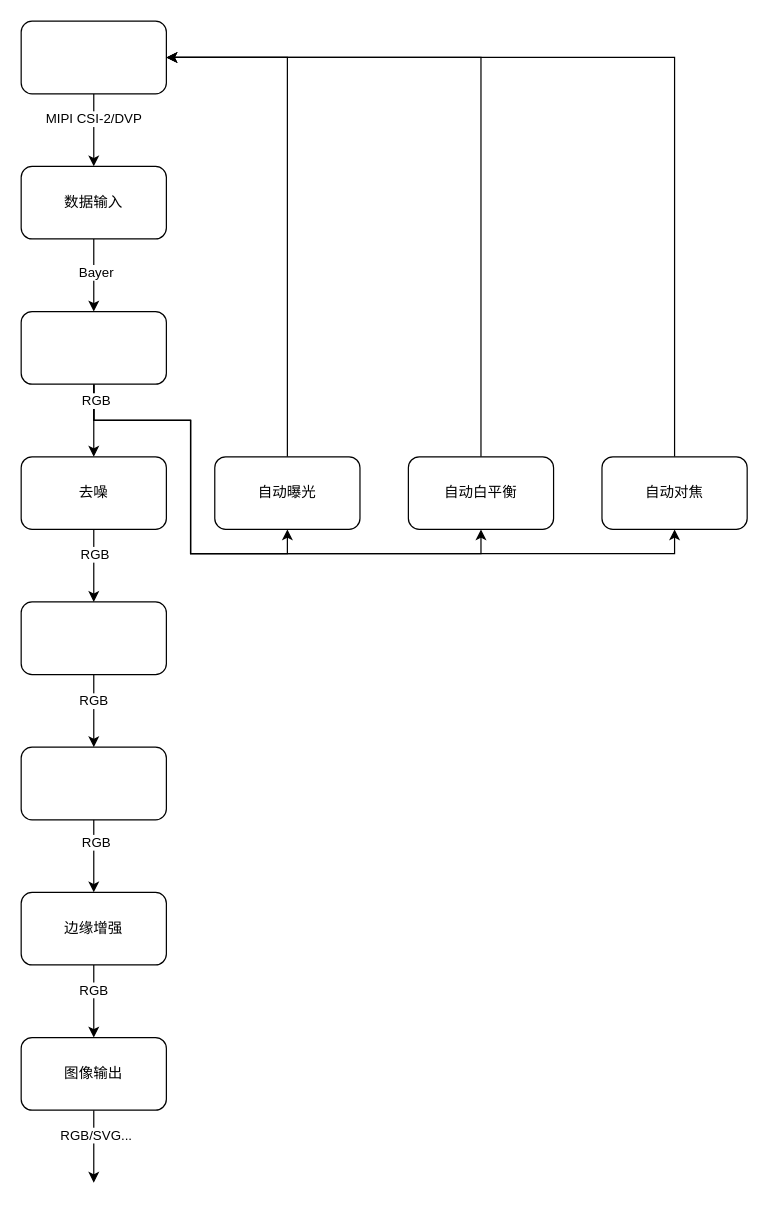
This 768x1214 diagram has some shape labels left out. The centre of each missing label's shape, as x and y in pixels:
"伽马矫正" goes at pixel 93 783.
"去马赛克" goes at pixel 93 347.
"摄像头摄像" goes at pixel 93 57.
"色彩校正" goes at pixel 93 638.
